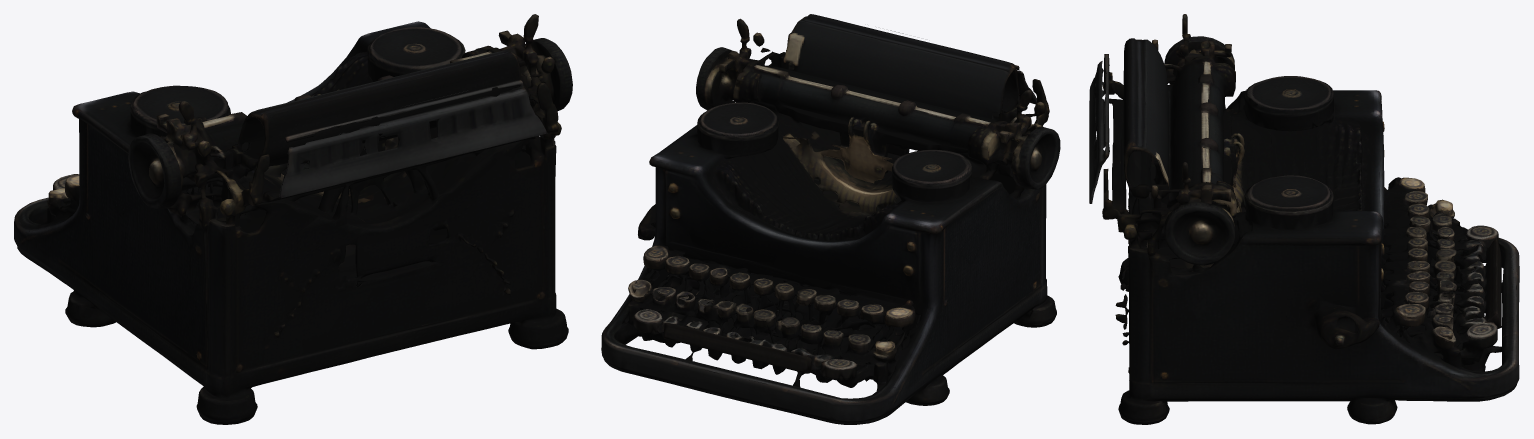
Rendered from typewriter.glb.
3 renders of one model, left to right at view 1: azimuth 30°, elevation 25°; view 2: azimuth 150°, elevation 25°; view 3: azimuth 270°, elevation 25°, orthographic. The views are drawn at different scales.
Visible parts, largest first — view 1: world; view 2: world; view 3: world.
Boxes of the visible parts, x1,y1,x2,y2 form: world: (14,14,572,424); world: (601,14,1060,424); world: (1089,14,1519,424).
Size of the model in its own units: 0.9572 by 0.6745 by 0.9997.
Materials: 1 (1 with a texture image).
